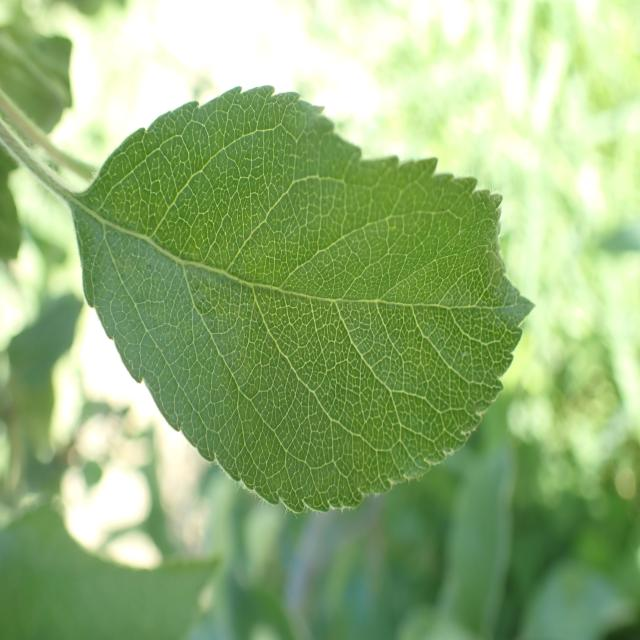healthy: (71, 84, 536, 515)
